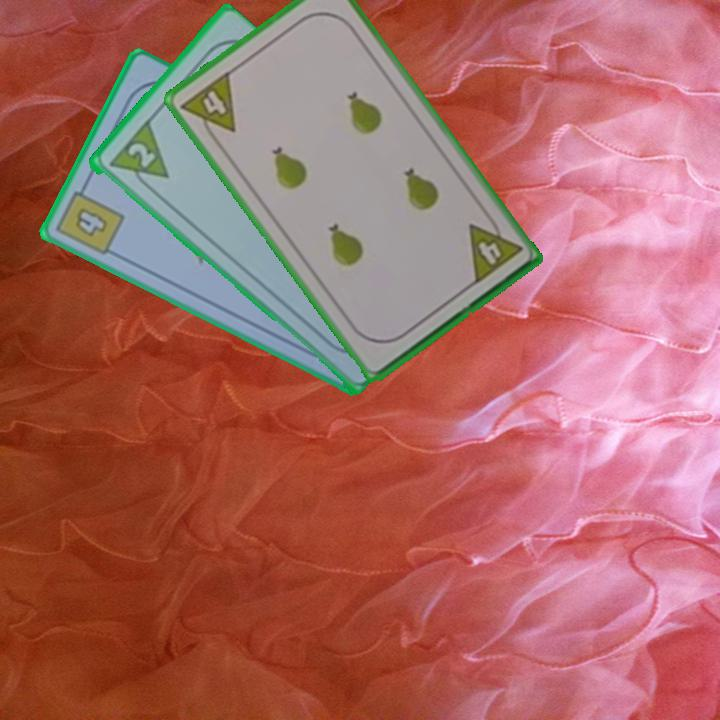2p: (123, 139, 158, 172)
4b: (52, 179, 128, 259)
4p: (176, 67, 239, 147), (464, 210, 525, 287)
